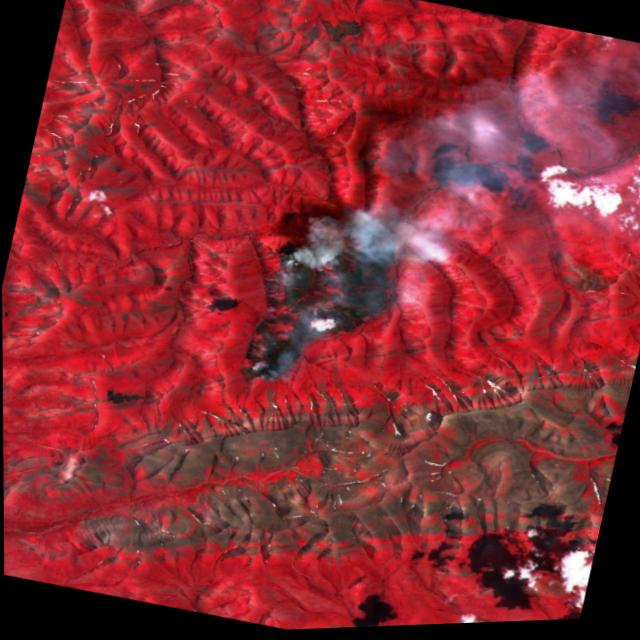fire: (231, 194, 421, 413)
